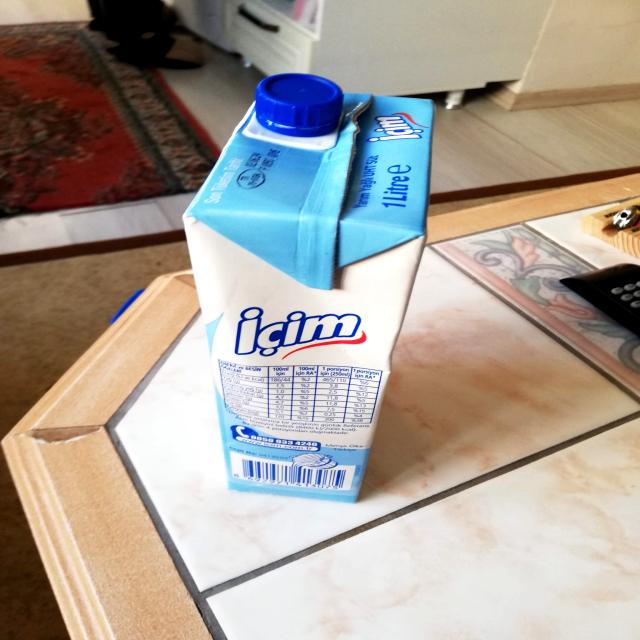milk: (178, 66, 437, 504)
